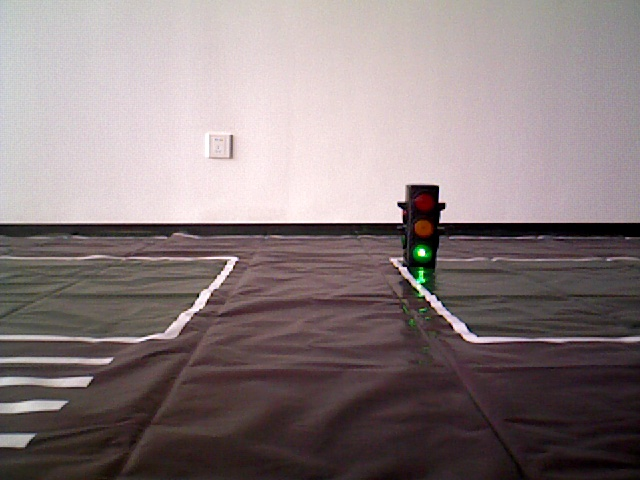green: (403, 188, 439, 262)
